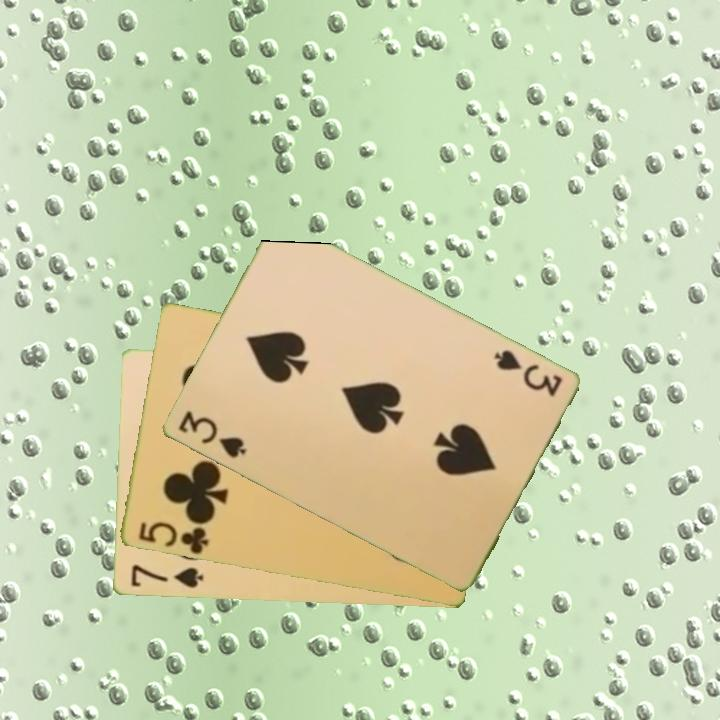3s: (174, 407, 249, 462), (490, 346, 565, 400)
5c: (134, 518, 211, 557)
7s: (127, 561, 206, 592)
